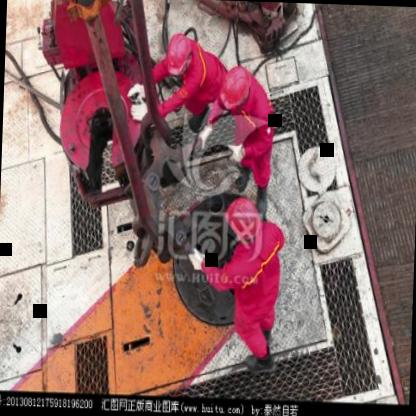helmet: (212, 61, 258, 123), (222, 196, 264, 247), (162, 32, 198, 79)
